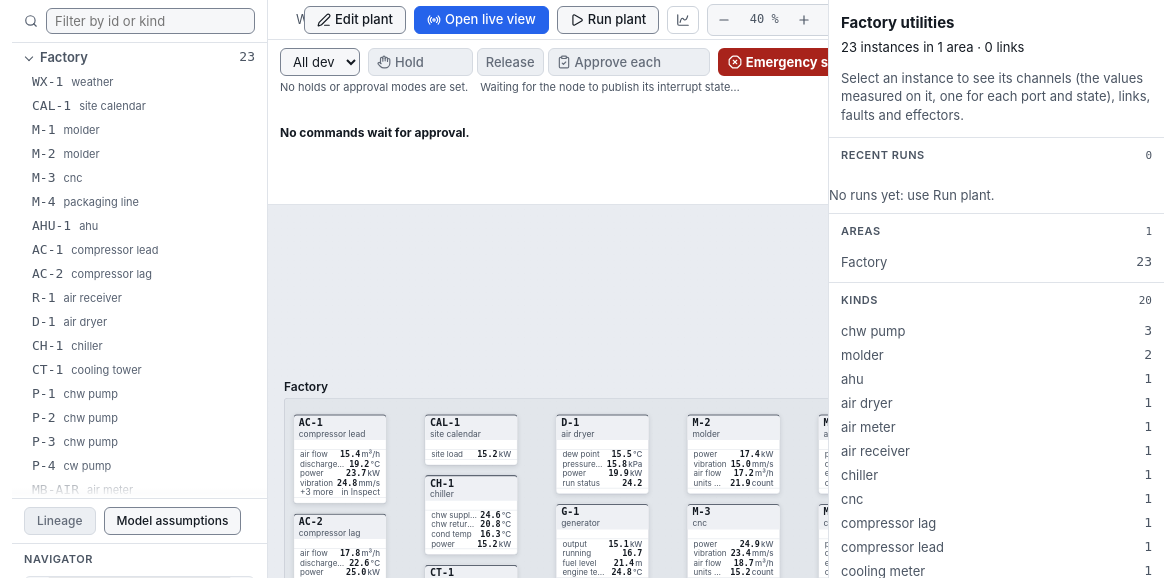
it: the trends panel of a watched run › shows one plot for each pinned channel, each with its own unit, and counts them on the toolbar
This screenshot has width=1164, height=578.
What coordinates should you click on to do the following:
click the button "CT-1 cooling tower"
I would click on:
 (140, 371)
Its box is [12,359,267,383].
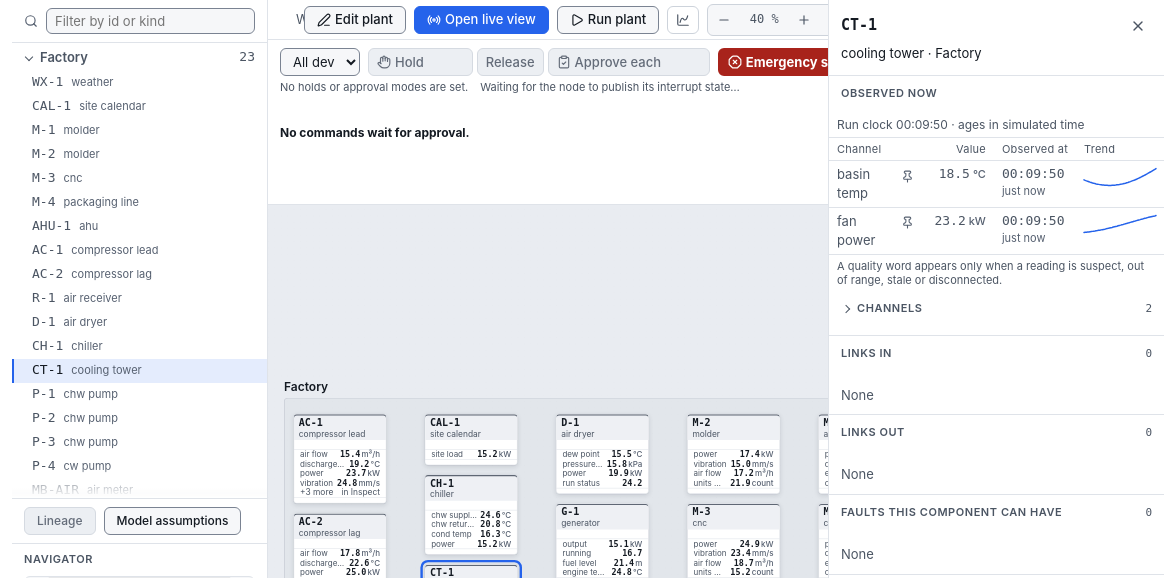
What coordinates should you click on to do the following:
click the button named "Watch basin temp"
I would click on:
 (907, 176)
Its box is [896,165,918,187].
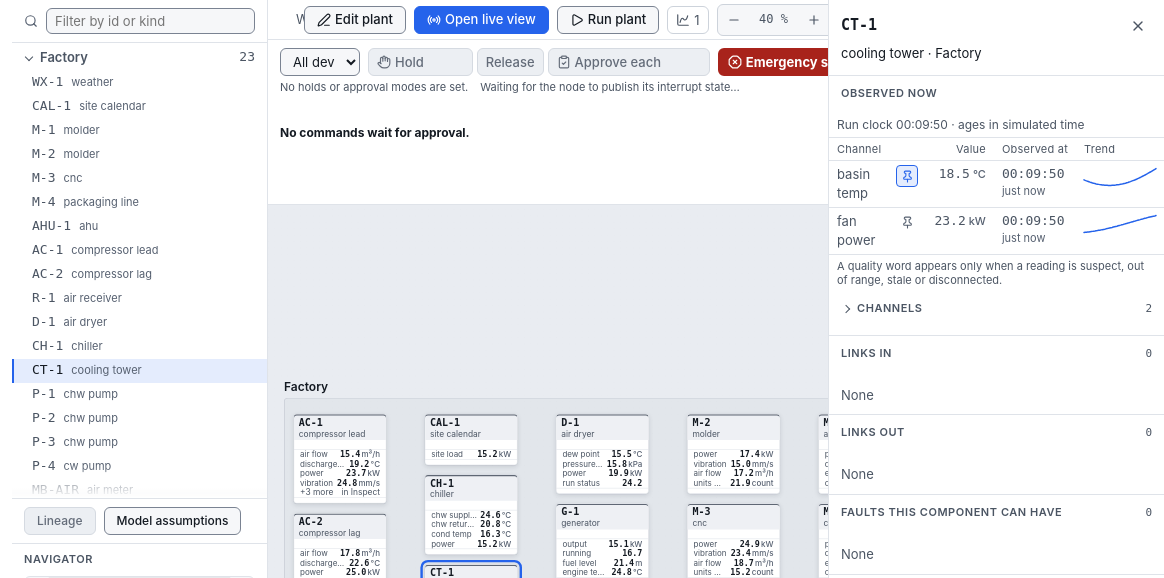
What coordinates should you click on to do the following:
click the button "CH-1 chiller"
I would click on:
 (140, 347)
Its box is [12,335,267,359].
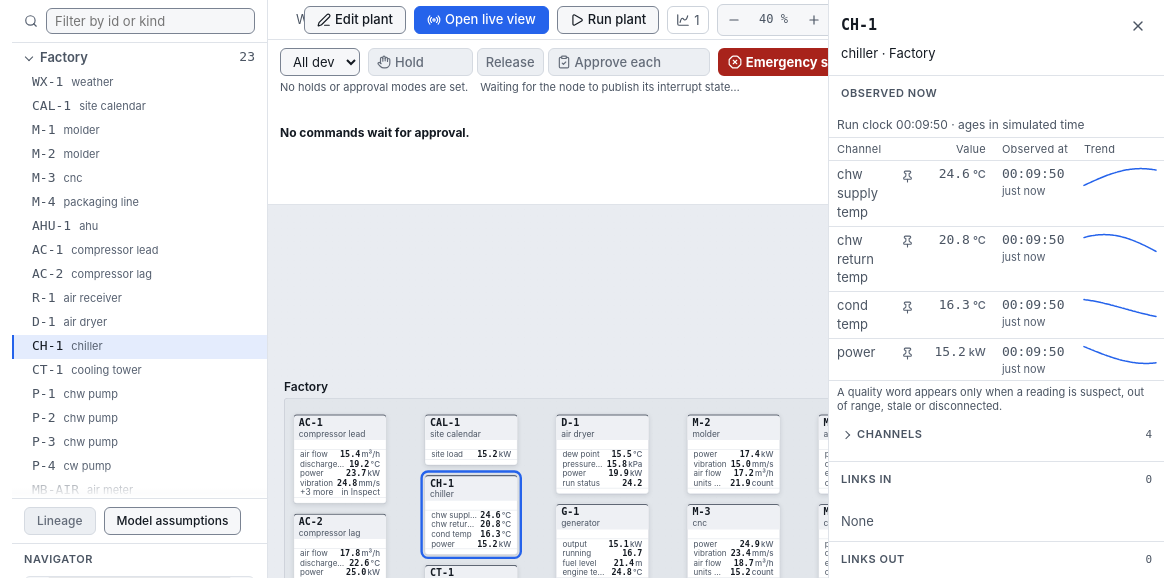
What coordinates should you click on to do the following:
click the button named "Watch power"
I would click on:
 (907, 354)
Its box is [896,343,918,365].
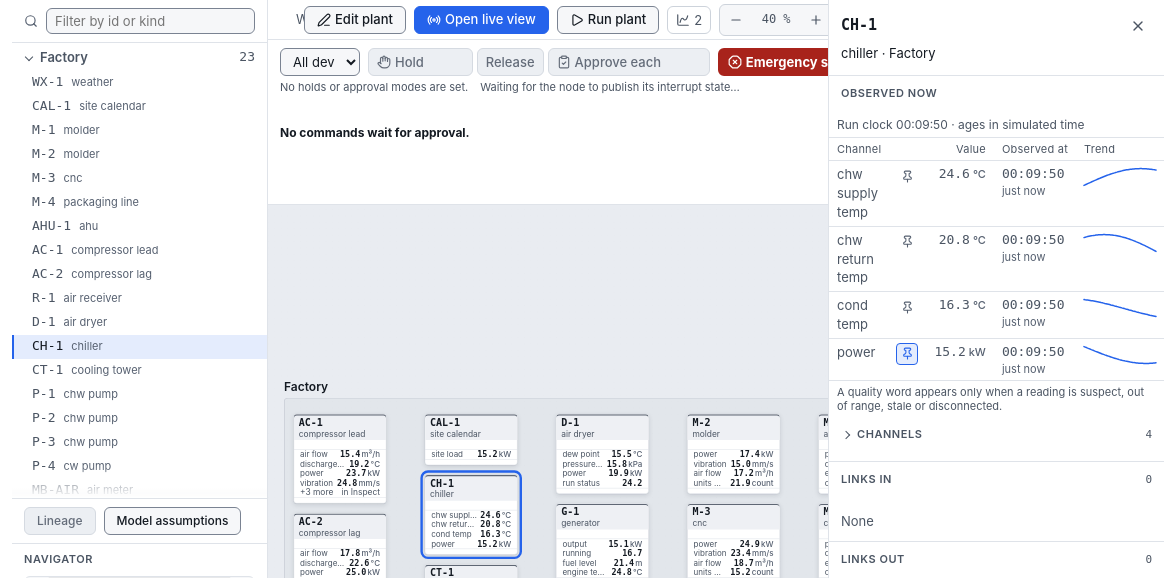
What coordinates should you click on to do the following:
click the button named "Trends"
I would click on:
 (689, 20)
Its box is [667,6,711,34].
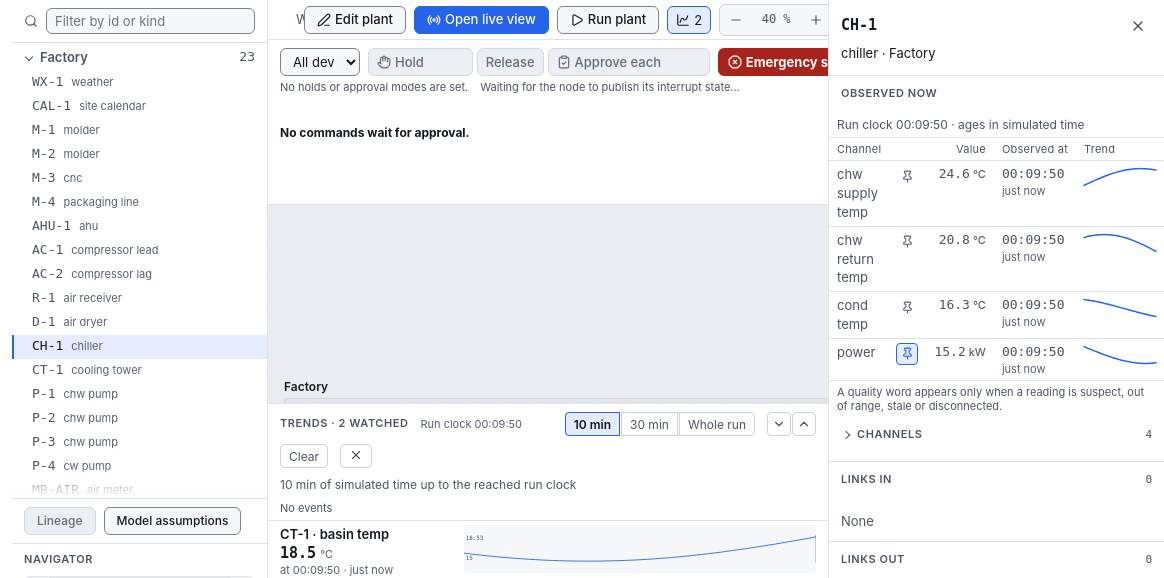
Now the element "Trends" shows "Trends · 2 watched", box [280,416,408,430]
